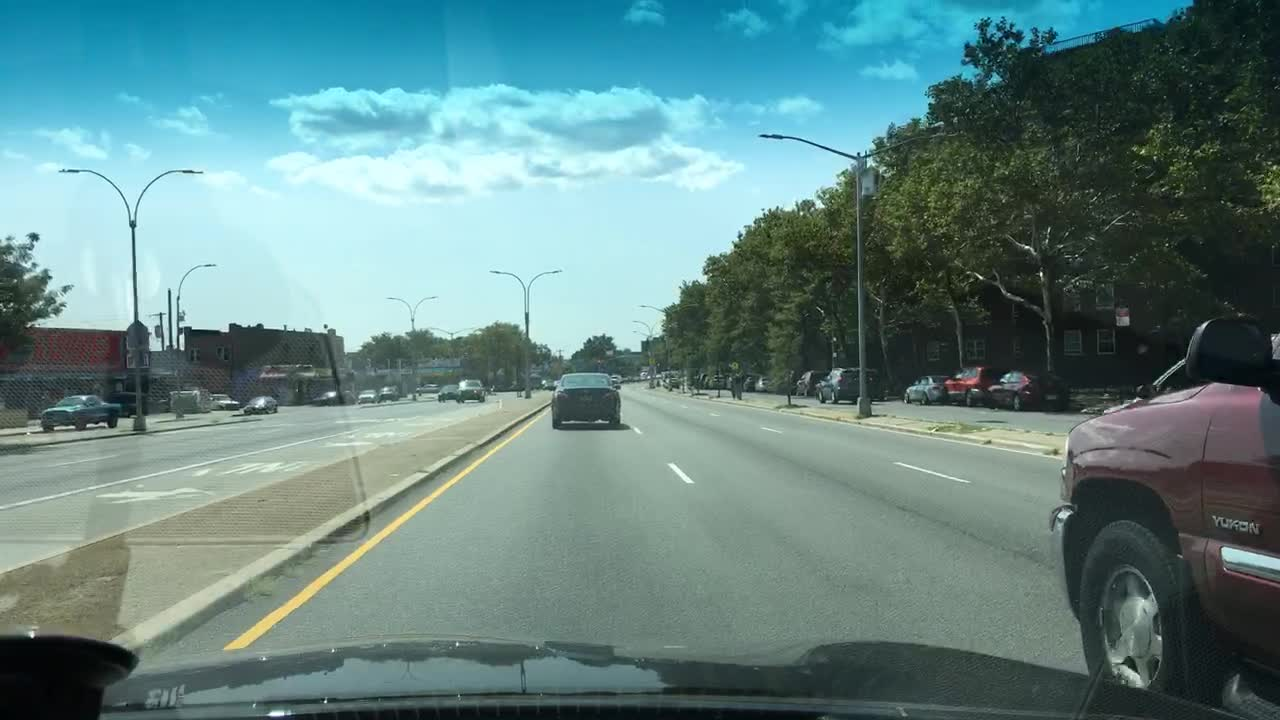car: (1050, 308, 1280, 713), (546, 370, 620, 431), (40, 393, 124, 436), (994, 364, 1074, 409), (817, 364, 884, 408), (937, 365, 1003, 406), (164, 389, 240, 414), (900, 372, 946, 409), (793, 367, 825, 397), (241, 394, 278, 419), (458, 378, 488, 405), (680, 368, 705, 394), (776, 370, 801, 396), (316, 390, 352, 408), (704, 371, 729, 390), (755, 371, 776, 392), (438, 383, 460, 403), (662, 367, 680, 390), (736, 372, 755, 393), (356, 390, 378, 408), (409, 380, 438, 392), (382, 383, 400, 402), (610, 371, 628, 389), (646, 370, 662, 390), (539, 375, 560, 390)
traffic sign: (122, 320, 150, 350), (1113, 308, 1131, 328), (128, 353, 146, 370)
